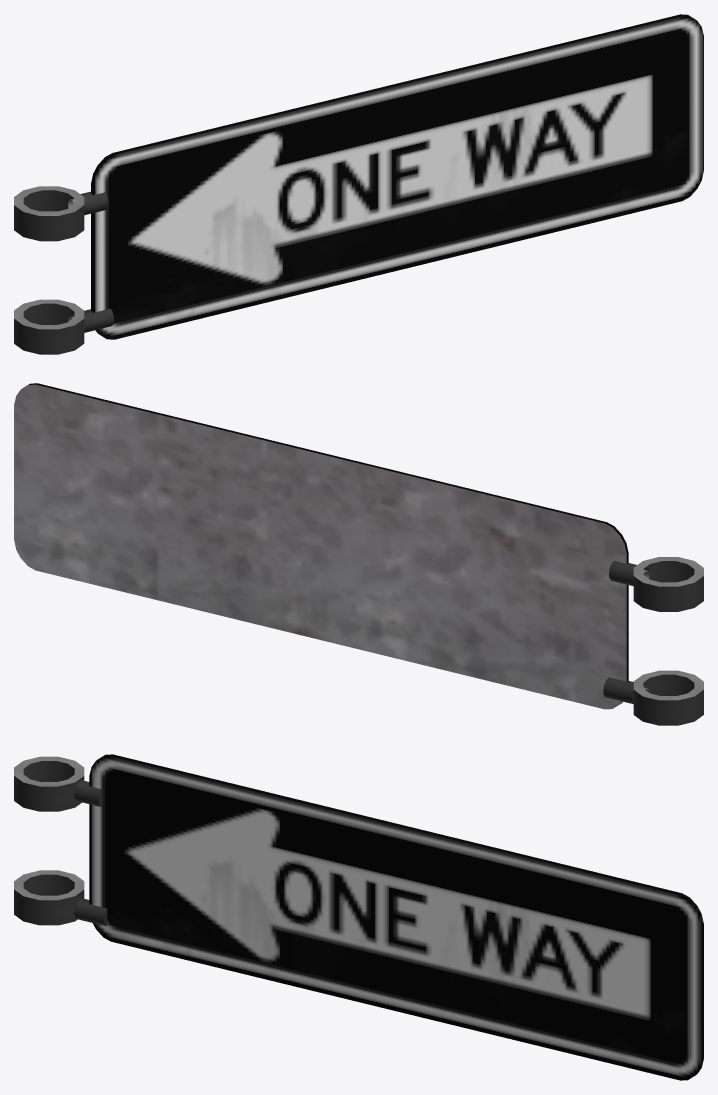
Rendered from Sign_St_OneWayB.fbx.
The picture shows the model from 3 angles, top to bottom: view 1: azimuth 30°, elevation 25°; view 2: azimuth 150°, elevation 25°; view 3: azimuth 330°, elevation 25°; orthographic projection.
Visible parts, largest first — view 1: Sign_St_OneWayB; view 2: Sign_St_OneWayB; view 3: Sign_St_OneWayB.
Part boxes in pixels (x1,y1,x2,y2): Sign_St_OneWayB: [14, 14, 703, 354]; Sign_St_OneWayB: [14, 383, 703, 725]; Sign_St_OneWayB: [14, 754, 703, 1080].
Bounding box in the file's own units: 158 × 40.91 × 14.06.
